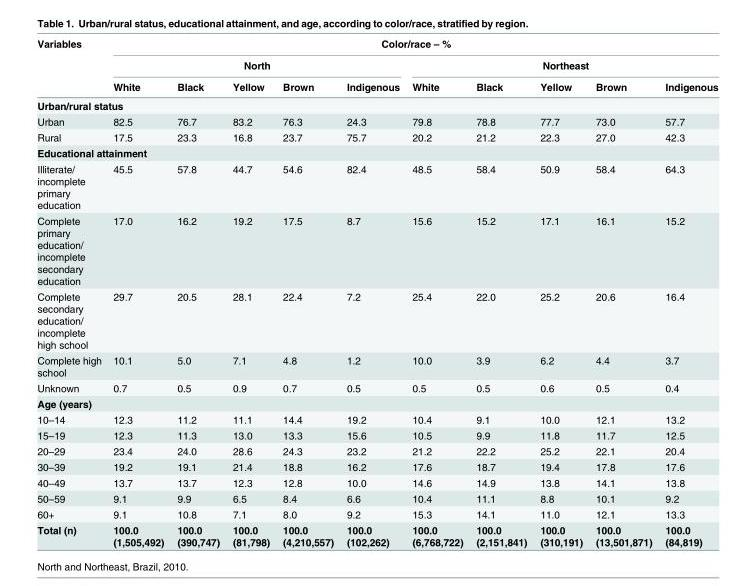table: (36, 37, 717, 547)
table column: (36, 37, 106, 547), (588, 37, 657, 547), (339, 37, 405, 547), (275, 37, 339, 547), (468, 37, 532, 547), (106, 37, 169, 547), (405, 37, 468, 547), (657, 37, 717, 547), (169, 37, 225, 547), (532, 37, 588, 547), (225, 37, 275, 547)
table column header: (36, 37, 717, 95)
table projected row header: (36, 95, 717, 113), (36, 144, 717, 160), (36, 395, 717, 411)
table row: (36, 212, 717, 288), (36, 288, 717, 351), (36, 160, 717, 212), (36, 351, 717, 379), (36, 521, 717, 547), (36, 53, 717, 75), (36, 75, 717, 95), (36, 95, 717, 113), (36, 37, 717, 53), (36, 113, 717, 129), (36, 144, 717, 160), (36, 379, 717, 395), (36, 395, 717, 411), (36, 411, 717, 427), (36, 442, 717, 458), (36, 458, 717, 474), (36, 474, 717, 490), (36, 490, 717, 506), (36, 129, 717, 144), (36, 427, 717, 442), (36, 506, 717, 521)
table spanning cell: (106, 37, 717, 53), (405, 53, 717, 75), (106, 53, 405, 75), (36, 37, 106, 95)
